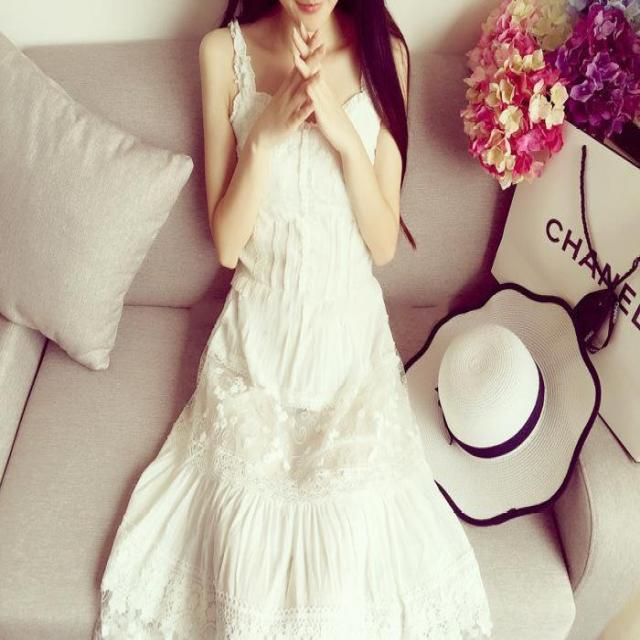sling dress: (93, 13, 493, 640)
